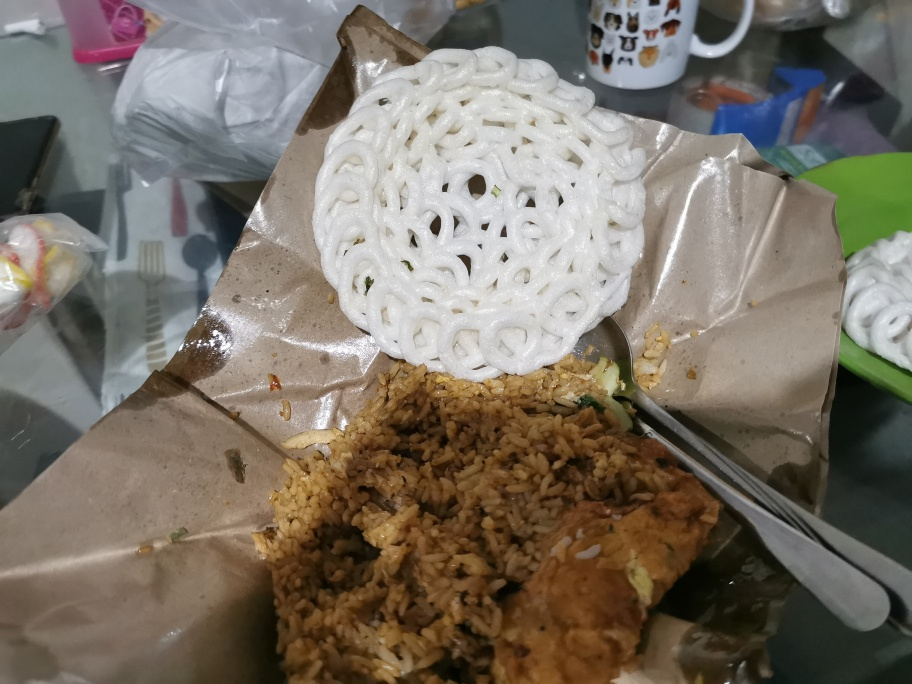kerupuk: (318, 45, 644, 364)
nasi goreng: (235, 366, 729, 684)
